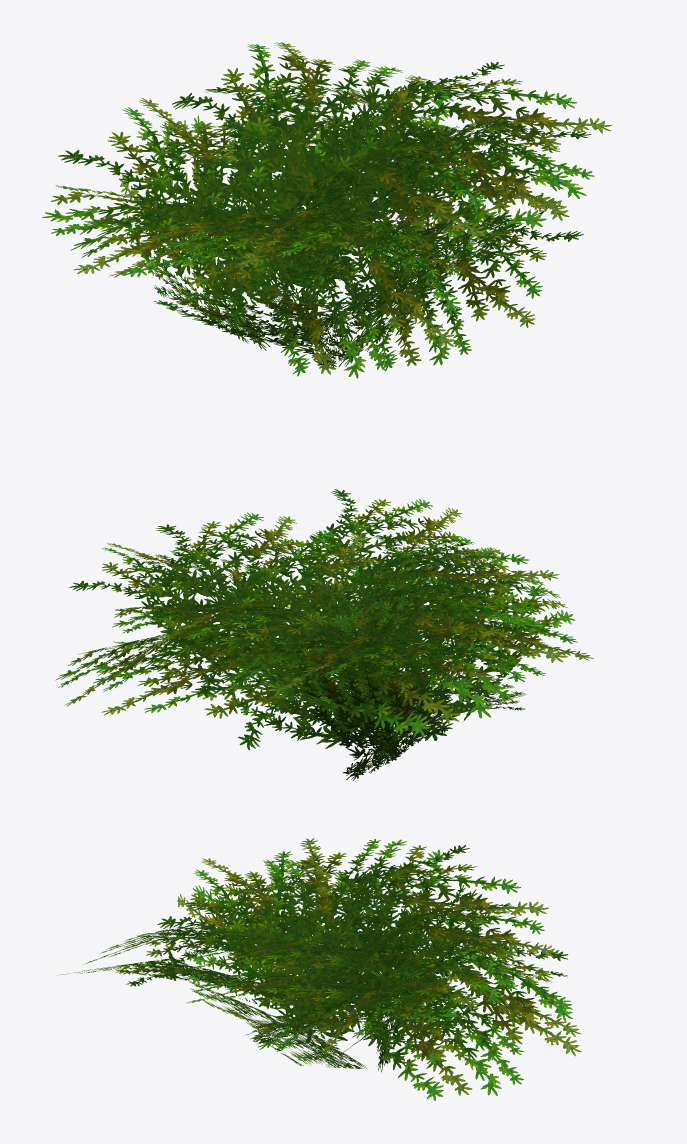
Rendered from guanmu_023.FBX.
The picture shows the model from 3 angles, top to bottom: view 1: azimuth 30°, elevation 25°; view 2: azimuth 150°, elevation 25°; view 3: azimuth 270°, elevation 25°; orthographic projection. The views are drawn at different scales.
Parts seen in each view (by area): view 1: guanmu_023_02; view 2: guanmu_023_02; view 3: guanmu_023_02.
Boxes of the visible parts, x1,y1,x2,y2 form: guanmu_023_02: [42, 42, 611, 378]; guanmu_023_02: [55, 489, 593, 780]; guanmu_023_02: [60, 838, 581, 1100].
Size of the model in its own units: 1.22 by 0.4812 by 1.27.
